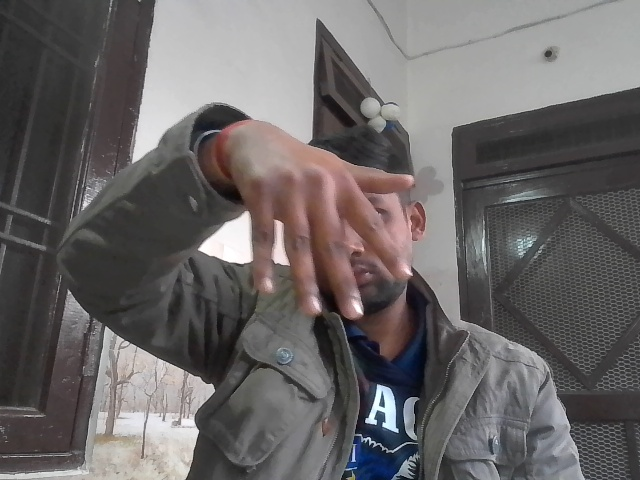HowAreYou: (228, 119, 433, 345)
